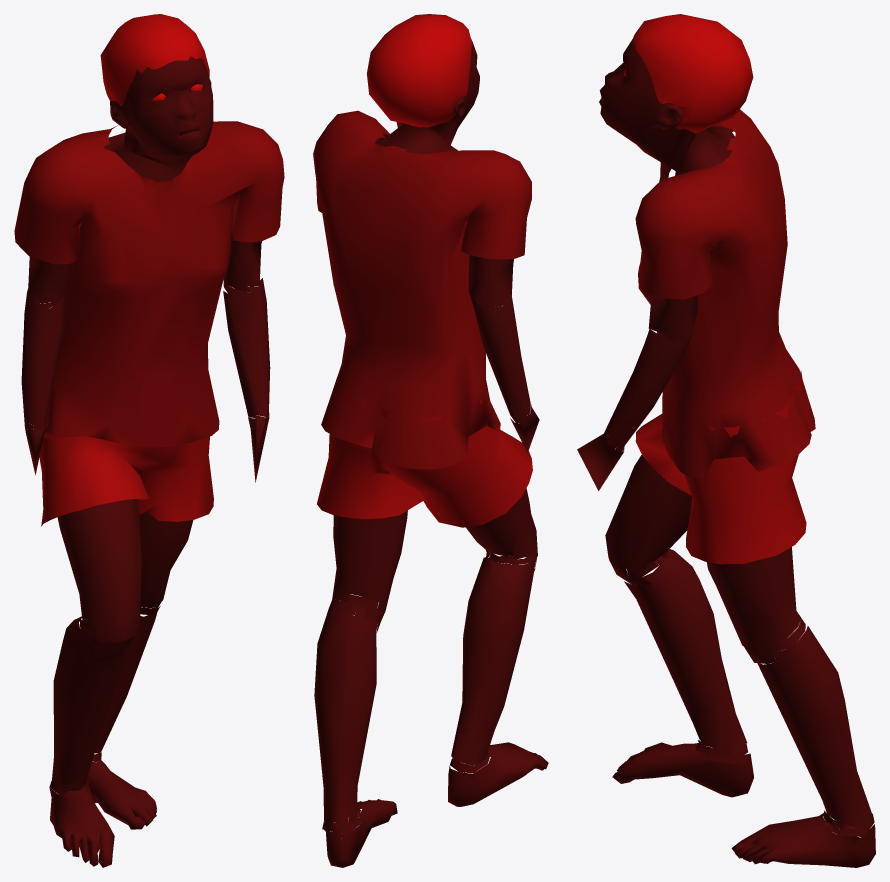
File: crowd_kidStand.glb
The picture shows the model from 3 angles, left to right: view 1: azimuth 30°, elevation 25°; view 2: azimuth 150°, elevation 25°; view 3: azimuth 270°, elevation 25°; orthographic projection. The views are drawn at different scales.
Parts seen in each view (by area): view 1: kidStand; view 2: kidStand; view 3: kidStand.
Boxes of the visible parts, x1=… form: kidStand: x1=14, y1=14, x2=284, y2=867; kidStand: x1=313, y1=14, x2=548, y2=867; kidStand: x1=577, y1=14, x2=875, y2=867.
Bounding box in the file's own units: 0.4071 × 1.38 × 0.4402.
